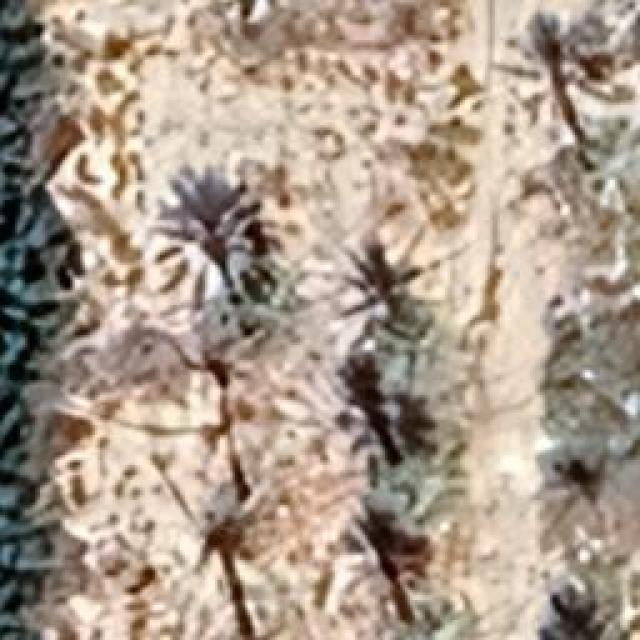PalmTree: (103, 65, 588, 608), (106, 89, 412, 477), (147, 490, 270, 630), (312, 348, 448, 472), (490, 9, 610, 132), (152, 185, 270, 310), (336, 502, 452, 628), (0, 97, 102, 237), (525, 424, 640, 538), (171, 378, 273, 494), (349, 300, 460, 400), (336, 225, 459, 310), (566, 113, 640, 212), (0, 0, 59, 99), (371, 598, 496, 640), (0, 568, 36, 640), (0, 98, 25, 200), (0, 101, 20, 210)
